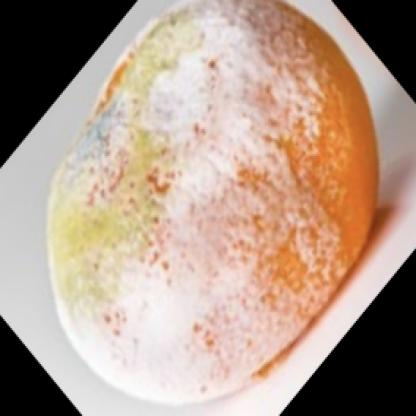rotten: (50, 1, 380, 407)
